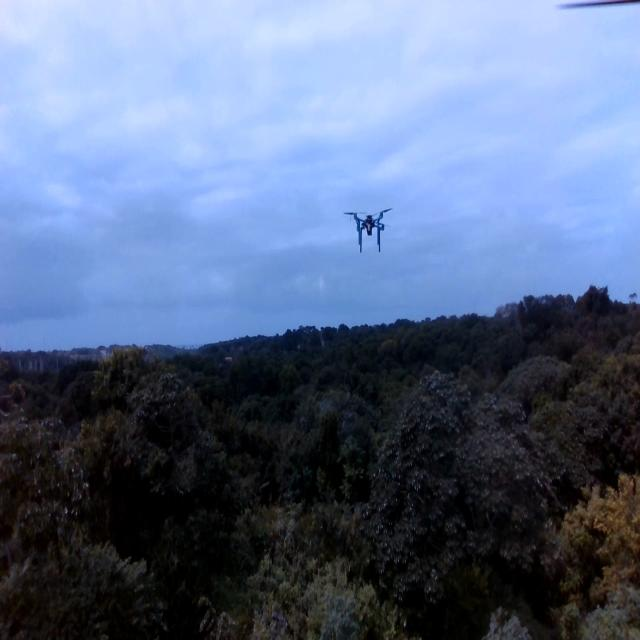-uav-: (339, 191, 394, 259)
